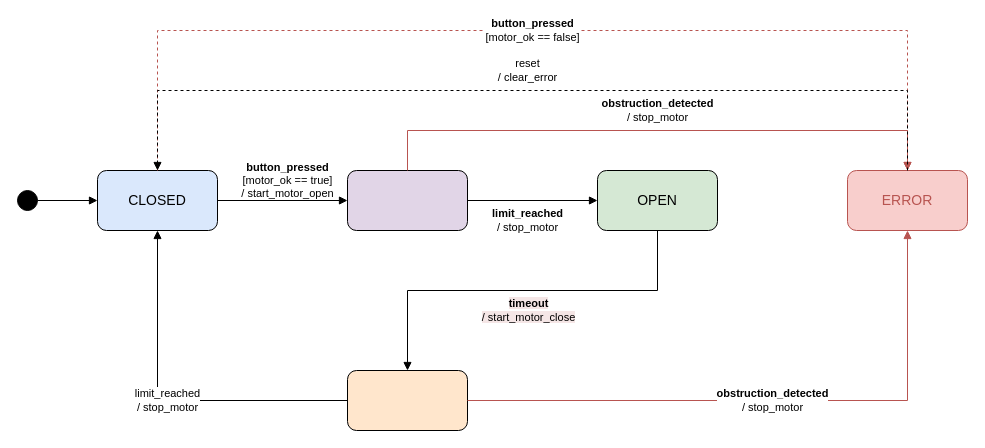
The diagram is 985 pixels wide and 448 high, and some of its shapes have lost their labels. The shapes that lost their labels are listed below. From the top down, each one's centre as x and y in pixels, then its label:
At pixel 407 200: "OPENING".
At pixel 407 400: "CLOSING".
